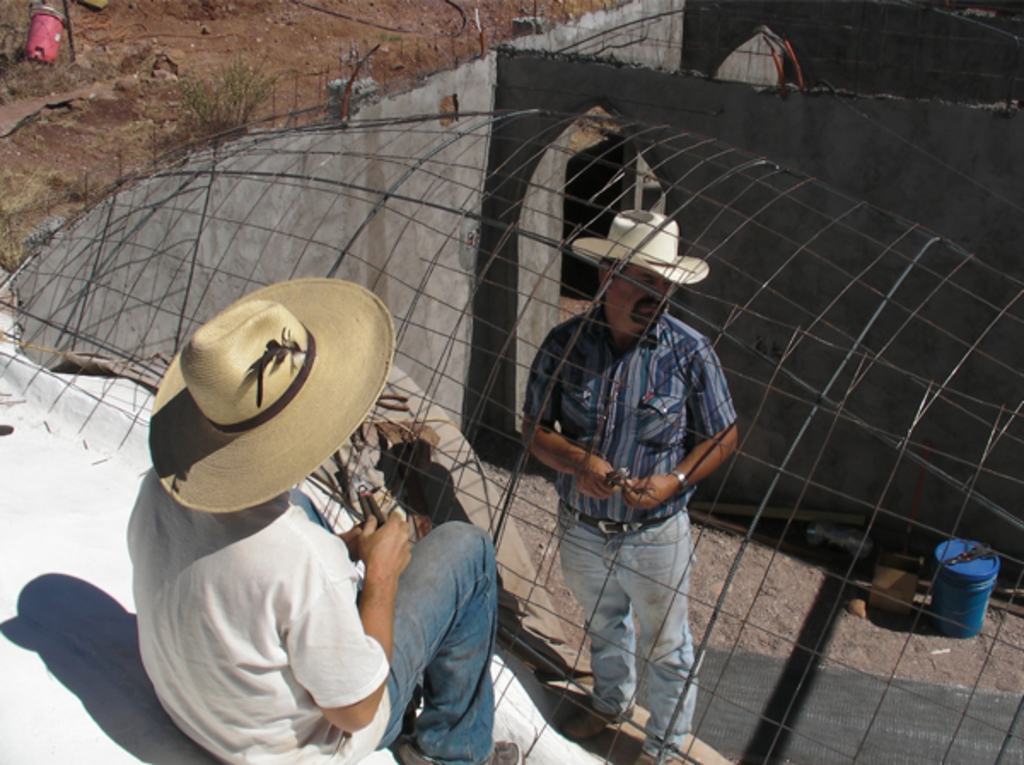Person: (121, 274, 526, 765), (521, 209, 738, 764)
